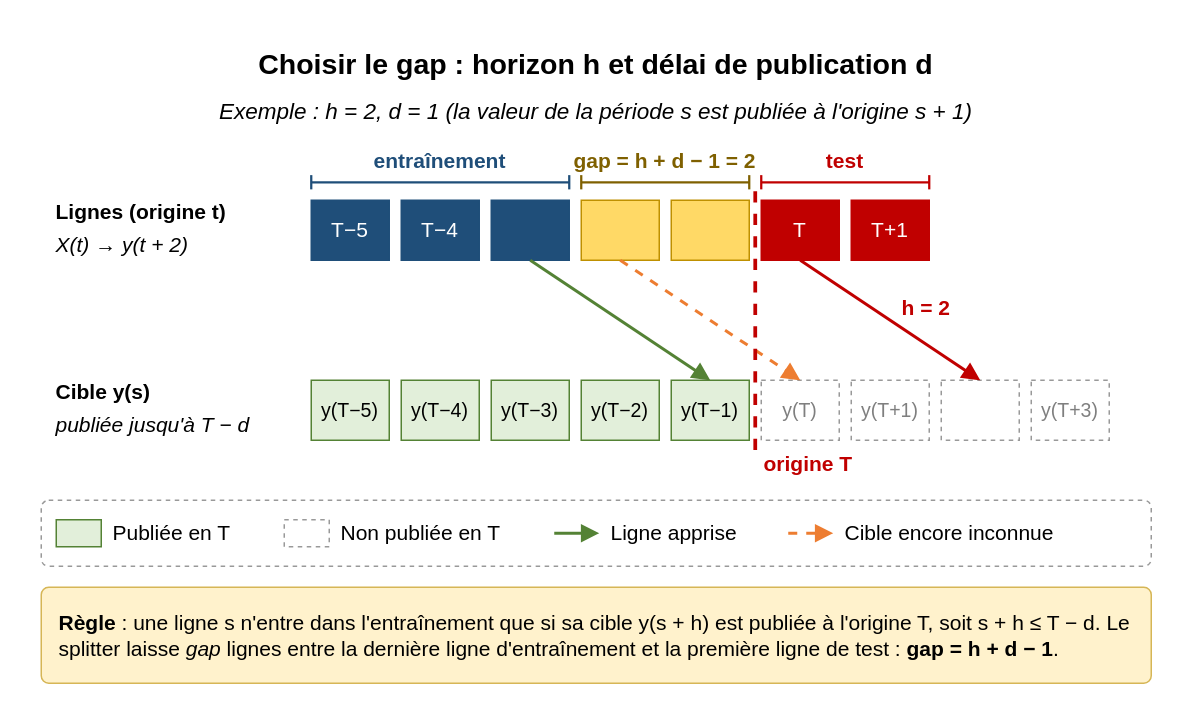
The diagram is 1191 pixels wide and 726 high, and some of its shapes have lost their labels. The shapes that lost their labels are listed below. From the top down, each one's box as (x1, y1, x2, y2) in pixels, then its label:
(490, 199, 569, 260): T−3
(580, 199, 659, 260): T−2
(670, 199, 749, 260): T−1
(940, 379, 1019, 440): y(T+2)
